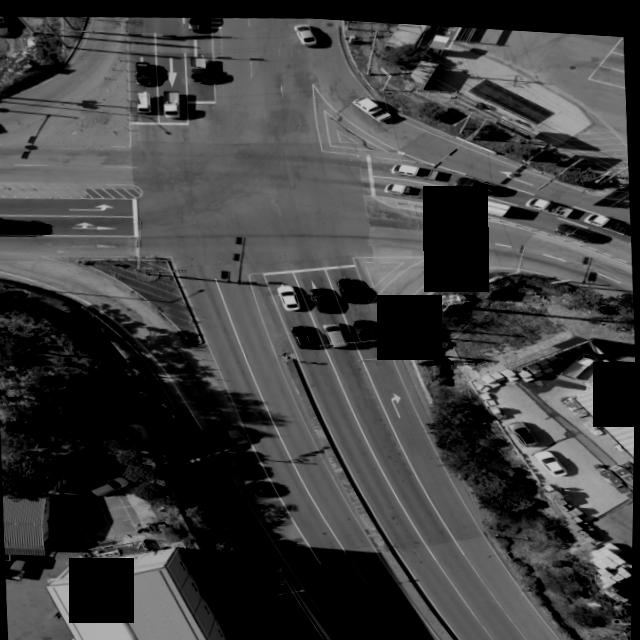car: (455, 170, 502, 192), (555, 213, 598, 235), (535, 442, 569, 469), (332, 567, 363, 595), (93, 475, 134, 496), (324, 319, 351, 347), (353, 315, 378, 344), (512, 416, 541, 440), (313, 283, 338, 310), (277, 282, 302, 308), (337, 273, 361, 300), (295, 17, 321, 41), (293, 320, 316, 346), (228, 423, 252, 443), (134, 60, 153, 85), (187, 15, 206, 31), (0, 16, 10, 37)
large_truck: (0, 216, 7, 231)
small_truck: (459, 188, 515, 216), (584, 203, 632, 230), (560, 343, 601, 374), (383, 176, 437, 198), (351, 91, 391, 119), (390, 155, 441, 175), (526, 190, 572, 212), (5, 556, 32, 585), (162, 88, 183, 117), (188, 52, 209, 80), (137, 87, 152, 110)
